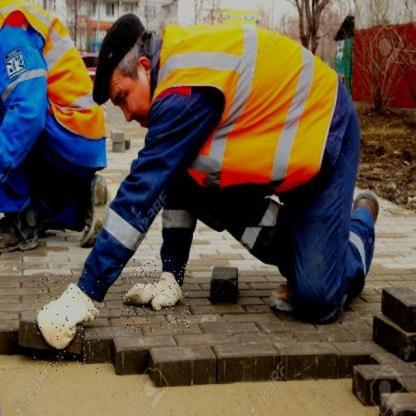bota: (77, 174, 113, 248), (1, 210, 38, 252), (267, 278, 300, 314), (350, 190, 381, 223)
